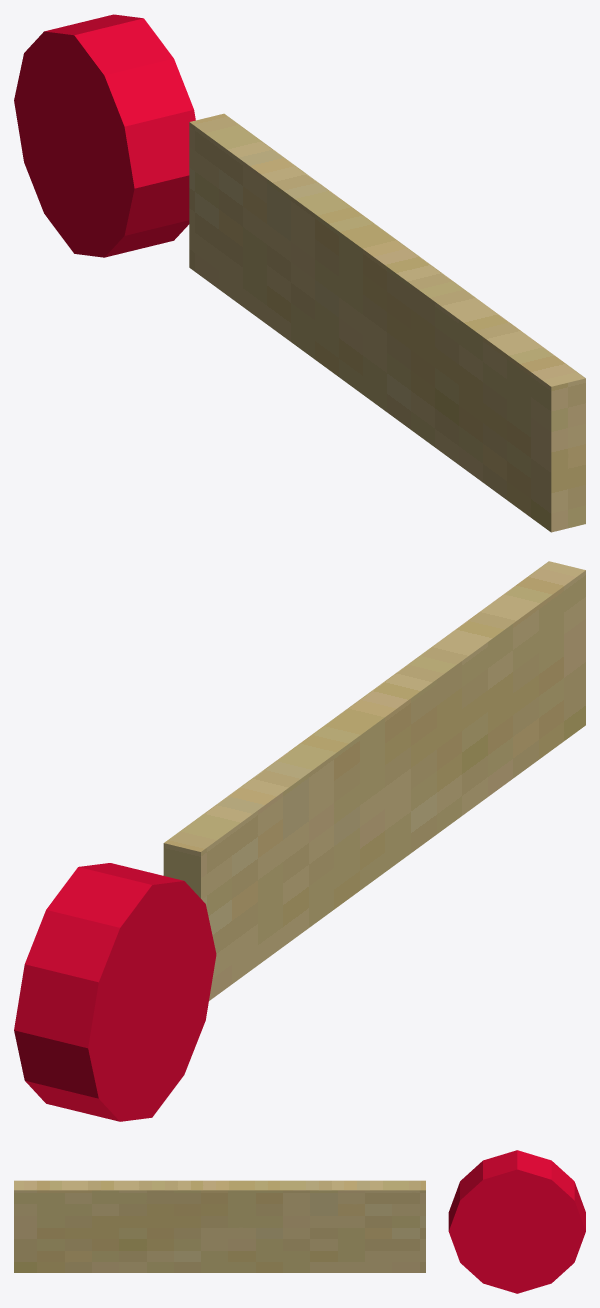
File: ElevatorButton.glb
3 views of the same model, one above another, from view 1: azimuth 30°, elevation 25°; view 2: azimuth 150°, elevation 25°; view 3: azimuth 270°, elevation 25° (orthographic). The views are drawn at different scales.
Visible parts, largest first — view 1: ElevatorButton2, InteractButton; view 2: ElevatorButton2, InteractButton; view 3: ElevatorButton2, InteractButton.
Boxes of the visible parts, <box> form: ElevatorButton2: <box>189,113,585,532</box>; InteractButton: <box>14,14,195,257</box>; ElevatorButton2: <box>163,561,585,1000</box>; InteractButton: <box>14,863,216,1121</box>; ElevatorButton2: <box>14,1180,425,1272</box>; InteractButton: <box>448,1150,585,1293</box>.
Size of what is drawn, in the model's own units: 0.0625 by 0.1875 by 0.7813.
2 materials, 2 textured.
